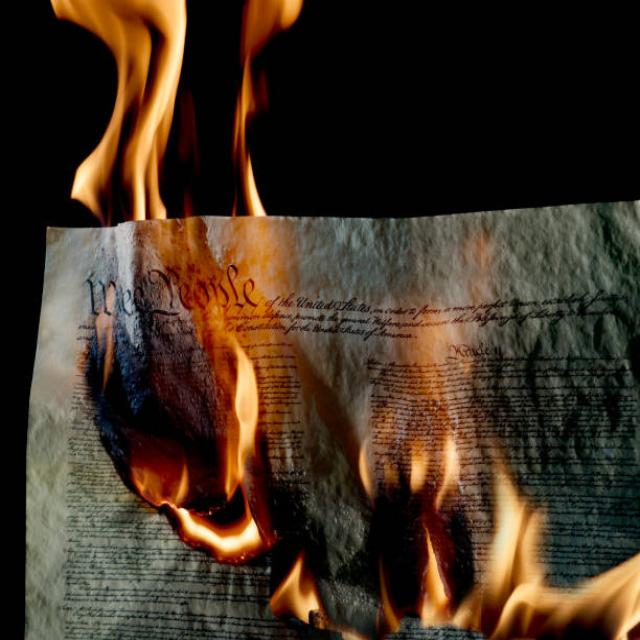fire: (50, 0, 190, 224), (452, 463, 548, 627), (492, 587, 585, 640), (585, 554, 639, 640), (230, 52, 271, 156), (176, 507, 261, 553), (240, 2, 304, 54), (235, 345, 259, 479), (420, 528, 448, 627), (232, 156, 268, 216), (435, 440, 460, 514), (270, 558, 302, 612), (379, 561, 401, 633)
